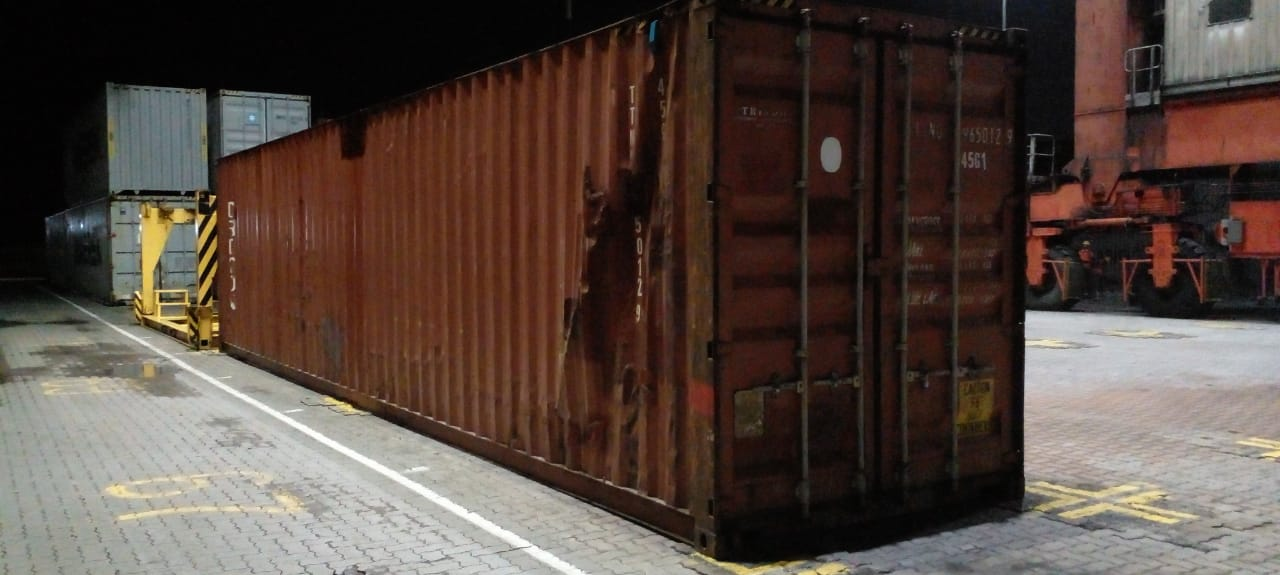moderate: (534, 46, 689, 407)
